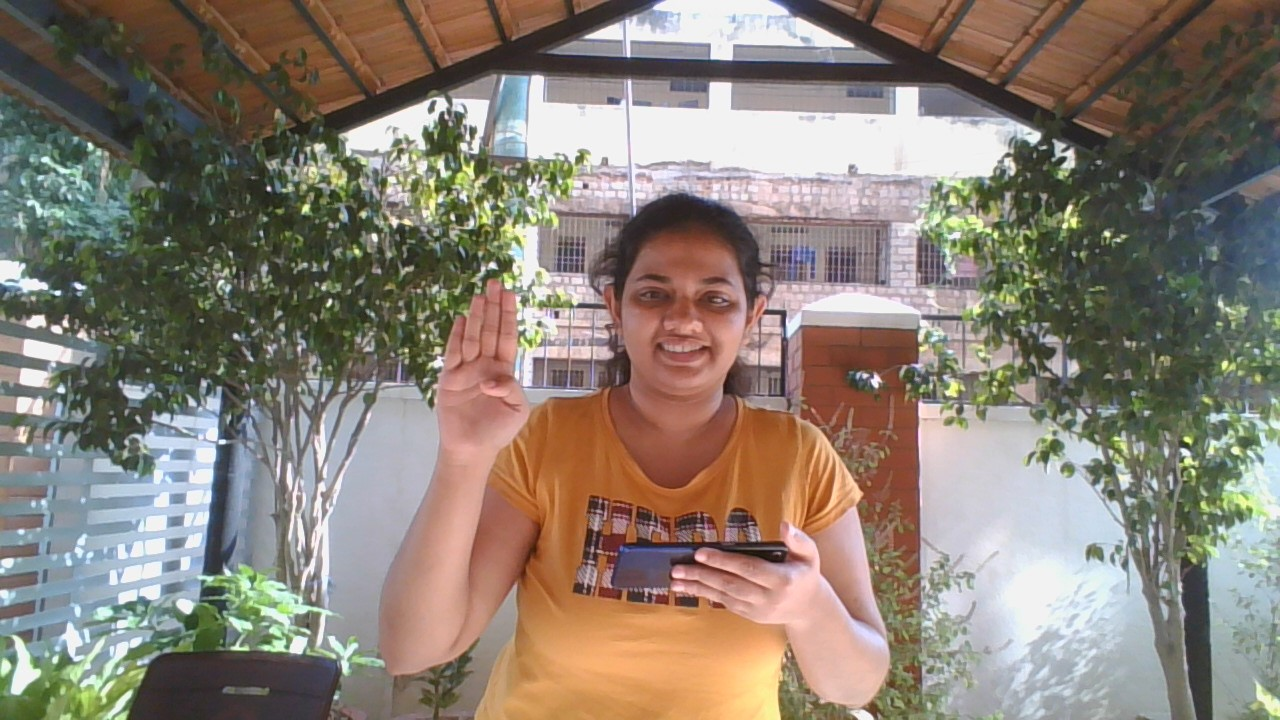b: (408, 261, 559, 483)
